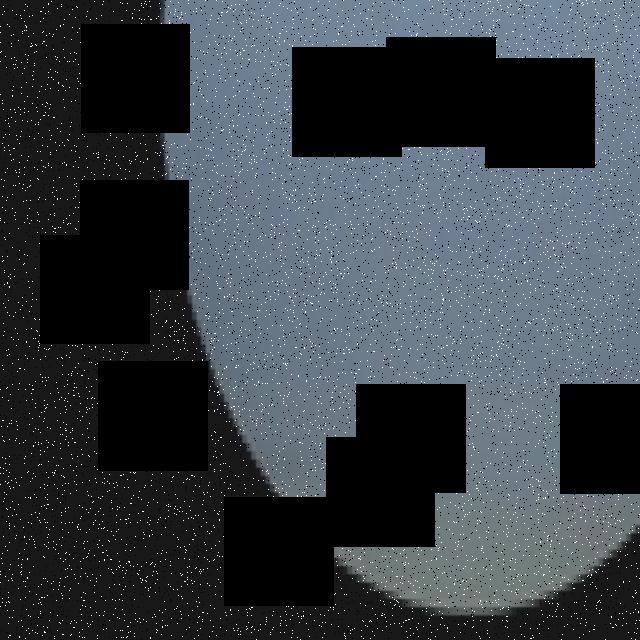Uranus: (155, 0, 639, 616)
